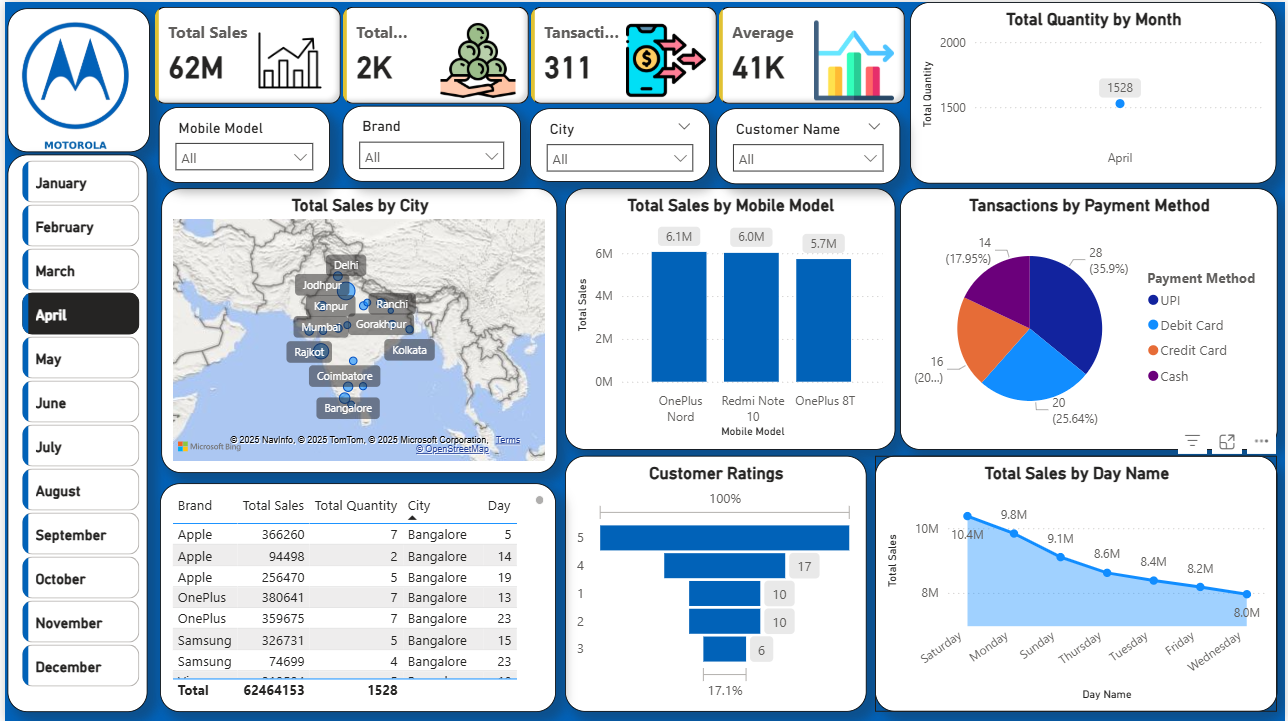

Layout of this report page (visuals, bound fields, positions):
{"tool":"powerbi","page":{"name":"Page 1","canvas":[1280,720],"ordinal":0},"visuals":[{"type":"shape","box":[2.5,6.2,142.5,143.8],"z":0},{"type":"image","box":[0,6.2,140,146.2],"z":1000},{"type":"shape","box":[2.5,152.5,140,557.5],"z":1001},{"type":"advancedSlicerVisual","fields":{"Values":["Sales_Data.Date.Variation.Date Hierarchy.Month"]},"box":[12.5,153.8,127.5,546.2],"z":1002},{"type":"cardVisual","fields":{"Data":["Sales_Data.Total Sales","Sales_Data.Total Quantity","Sales_Data.Tansactions","Sales_Data.Average"]},"box":[145,0,760,107.5],"z":1003},{"type":"map","fields":{"Category":["Sales_Data.City"],"Size":["Sales_Data.Total Sales"]},"box":[156.2,186.2,396.2,285],"z":1004},{"type":"lineChart","fields":{"Category":["Sales_Data.Date.Variation.Date Hierarchy.Month","Sales_Data.Date.Variation.Date Hierarchy.Day"],"Y":["Sales_Data.Total Quantity"]},"box":[905,0,366.2,181.2],"z":1005},{"type":"clusteredColumnChart","fields":{"Category":["Sales_Data.Mobile Model"],"Y":["Sales_Data.Total Sales"]},"box":[560,186.2,330,261.2],"z":1006},{"type":"pieChart","fields":{"Category":["Sales_Data.Payment Method"],"Y":["Sales_Data.Tansactions"]},"box":[895,186.2,377.5,261.2],"z":1007},{"type":"funnel","title":"Customer Ratings ","fields":{"Category":["Sales_Data.Customer Ratings"],"Y":["CountNonNull(Sales_Data.Customer Ratings)"]},"box":[560,453.8,301.2,256.2],"z":1008},{"type":"areaChart","fields":{"Category":["Sales_Data.Day Name"],"Y":["Sales_Data.Total Sales"]},"box":[870,453.8,402.5,256.2],"z":1009},{"type":"tableEx","fields":{"Values":["Sales_Data.Brand","Sales_Data.Total Sales","Sales_Data.Total Quantity","Sales_Data.City","Sales_Data.Date.Variation.Date Hierarchy.Day"]},"box":[155,481.2,396.2,228.8],"z":1010},{"type":"slicer","fields":{"Values":["Sales_Data.Mobile Model"]},"box":[153.8,105,171.2,76.2],"z":1011},{"type":"slicer","fields":{"Values":["Sales_Data.Brand"]},"box":[337.5,103.8,178.8,76.2],"z":1012},{"type":"slicer","fields":{"Values":["Sales_Data.City"]},"box":[525,106.2,180,73.8],"z":1013},{"type":"slicer","fields":{"Values":["Sales_Data.Customer Name"]},"box":[711.2,106.2,183.8,76.2],"z":1014}]}

Visuals, with their boxes in screenshot pixels (x1, y1, x2, y2), scaled from the page's 1280x720 canvas onto the 1288x721 screenshot:
shape: (3, 6, 146, 150)
image: (0, 6, 141, 153)
shape: (3, 153, 143, 711)
advancedSlicerVisual - Sales_Data.Date.Variation.Date Hierarchy.Month: (13, 154, 141, 701)
cardVisual - Sales_Data.Total Sales x Sales_Data.Total Quantity: (146, 0, 911, 108)
map - Sales_Data.City x Sales_Data.Total Sales: (157, 186, 556, 472)
lineChart - Sales_Data.Date.Variation.Date Hierarchy.Month x Sales_Data.Date.Variation.Date Hierarchy.Day: (911, 0, 1279, 181)
clusteredColumnChart - Sales_Data.Mobile Model x Sales_Data.Total Sales: (564, 186, 896, 448)
pieChart - Sales_Data.Payment Method x Sales_Data.Tansactions: (901, 186, 1280, 448)
"Customer Ratings " funnel: (564, 454, 867, 711)
areaChart - Sales_Data.Day Name x Sales_Data.Total Sales: (875, 454, 1280, 711)
tableEx - Sales_Data.Brand x Sales_Data.Total Sales: (156, 482, 555, 711)
slicer - Sales_Data.Mobile Model: (155, 105, 327, 181)
slicer - Sales_Data.Brand: (340, 104, 520, 180)
slicer - Sales_Data.City: (528, 106, 709, 180)
slicer - Sales_Data.Customer Name: (716, 106, 901, 183)
